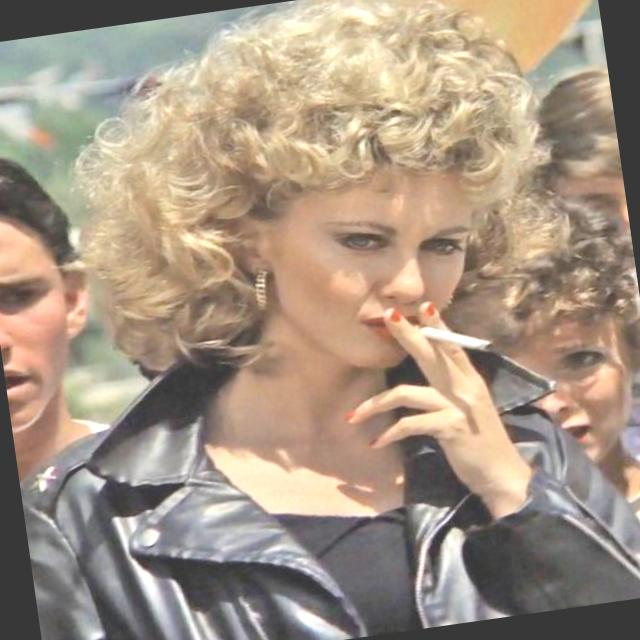cigarette: (386, 295, 503, 376)
